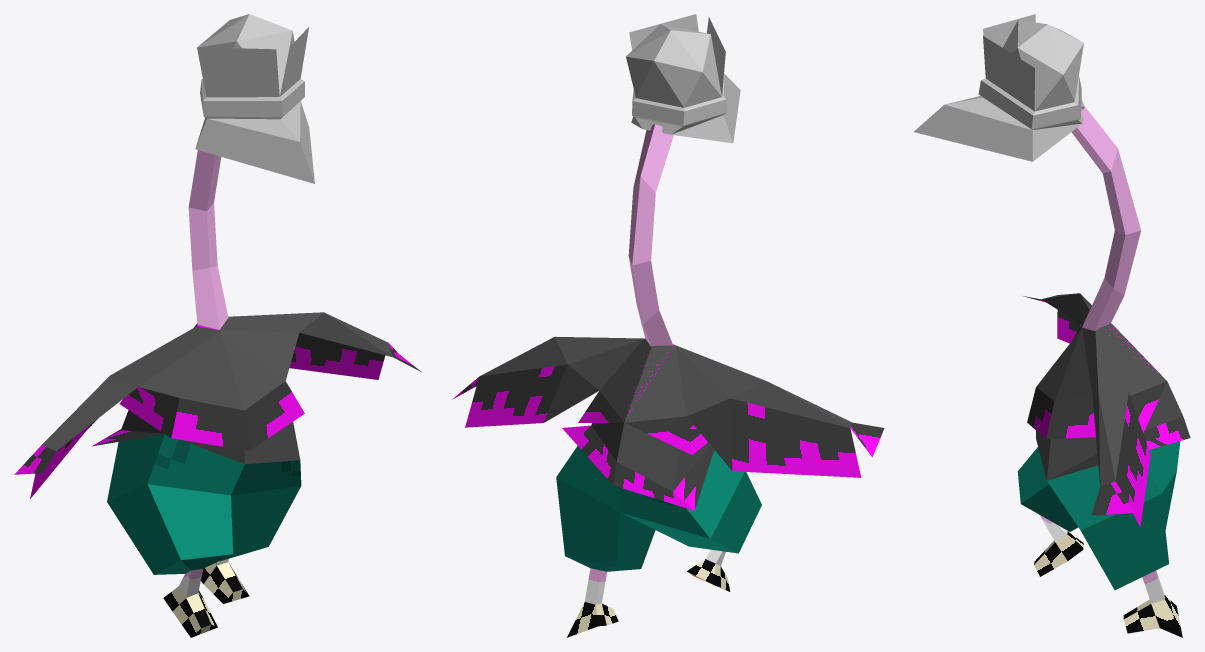
Rendered from ost41.obj.
3 views of the same model, side by side, from view 1: azimuth 30°, elevation 25°; view 2: azimuth 150°, elevation 25°; view 3: azimuth 270°, elevation 25° (orthographic). The views are drawn at different scales.
Visible parts, largest first — view 1: Cube, Icosphere; view 2: Cube, Icosphere; view 3: Cube, Icosphere.
Part boxes in pixels (bbox=[...]): Cube: bbox=[14, 150, 421, 637]; Icosphere: bbox=[195, 14, 314, 183]; Cube: bbox=[452, 124, 884, 637]; Icosphere: bbox=[626, 14, 740, 143]; Cube: bbox=[1017, 106, 1190, 637]; Icosphere: bbox=[914, 14, 1084, 161].
Size of the model in its own units: 11.53 by 16.27 by 6.89.
